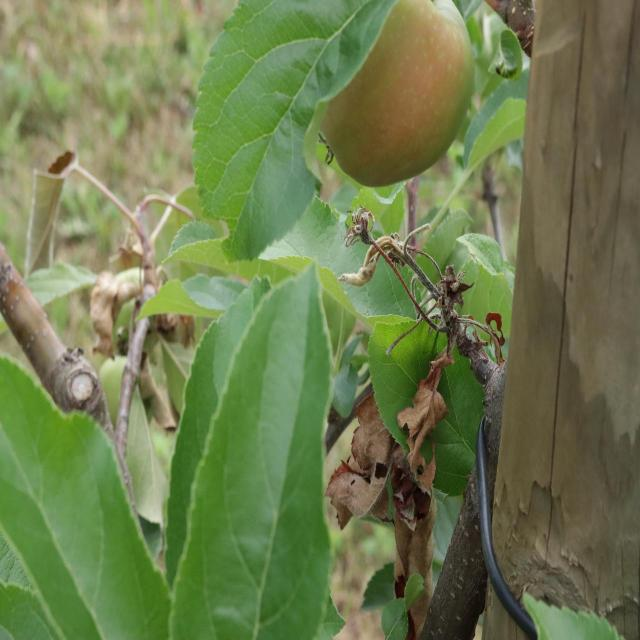-FireBlight-: (346, 360, 444, 608), (100, 233, 152, 356)
